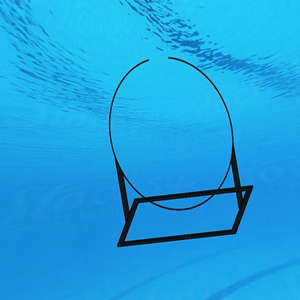circle: (106, 55, 255, 253)
